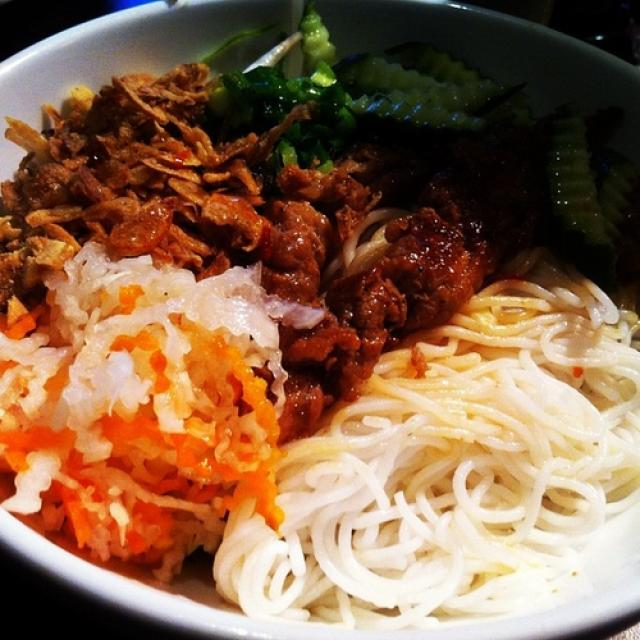面条主食: (4, 5, 619, 631)
